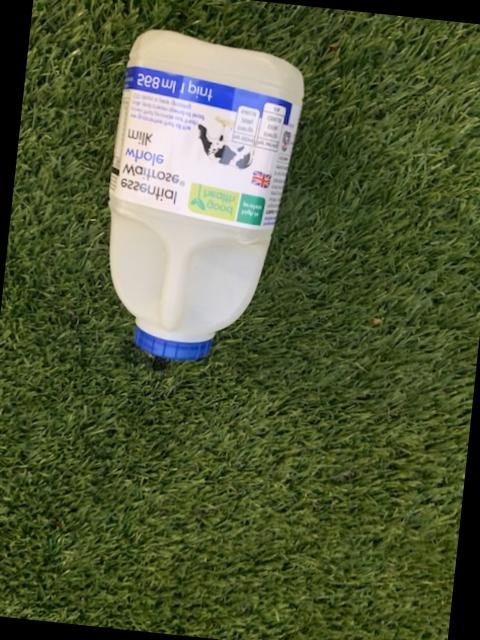plastic: (107, 31, 301, 360)
